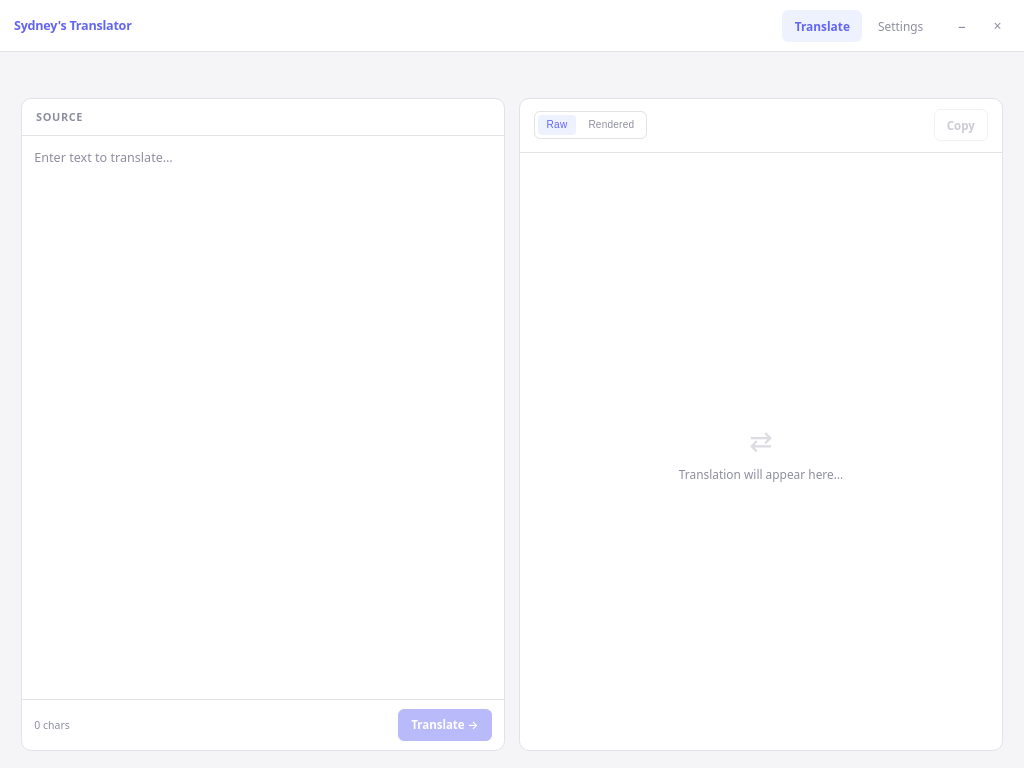
it: shows close prompt when close button action is ask
Click the button named "Close window".
click(998, 26)  # box left=982, top=10, right=1014, bottom=42
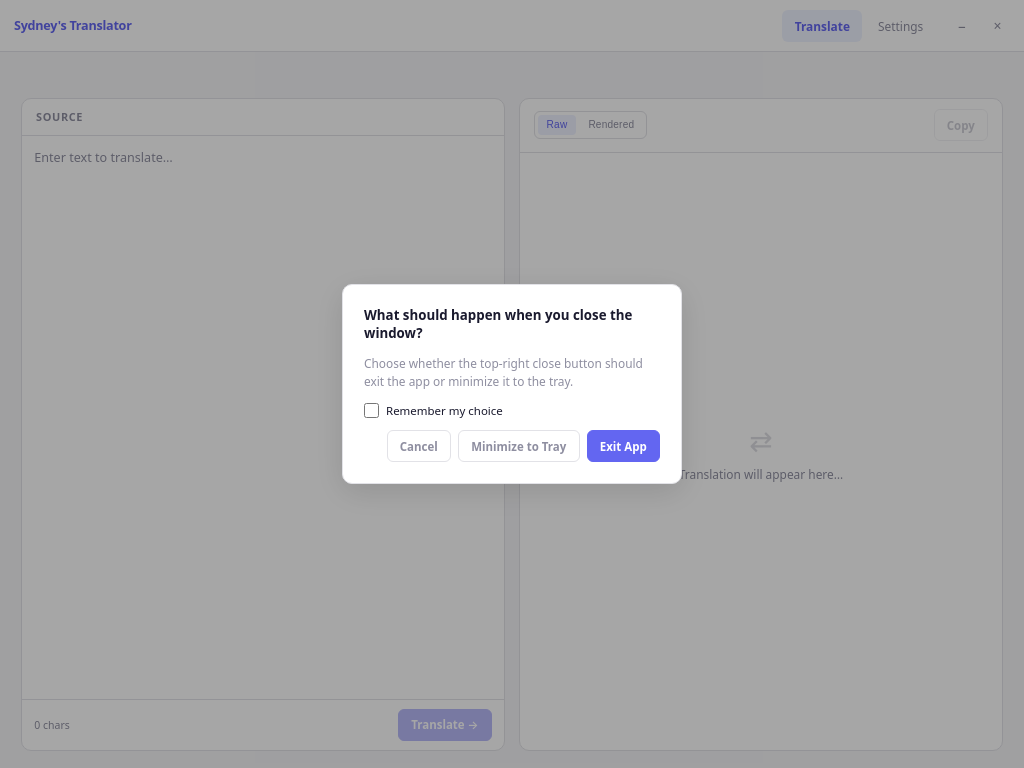
expect the dialog is shown: met, box left=342, top=284, right=682, bottom=484
